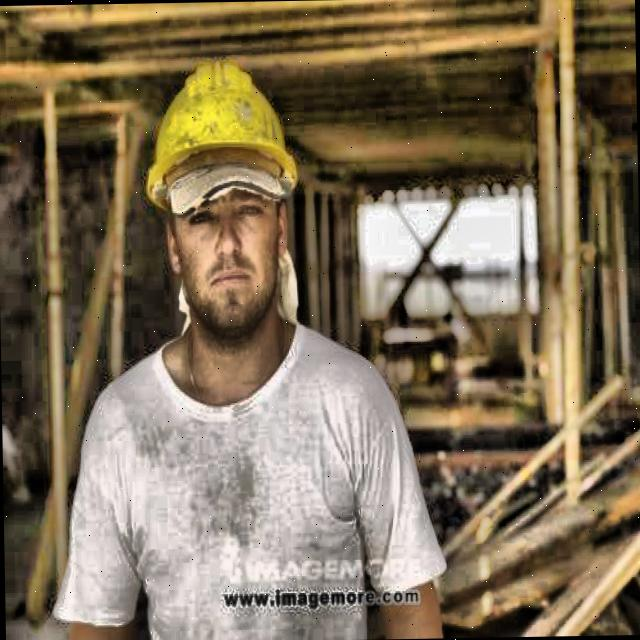helmet: (130, 31, 318, 365)
